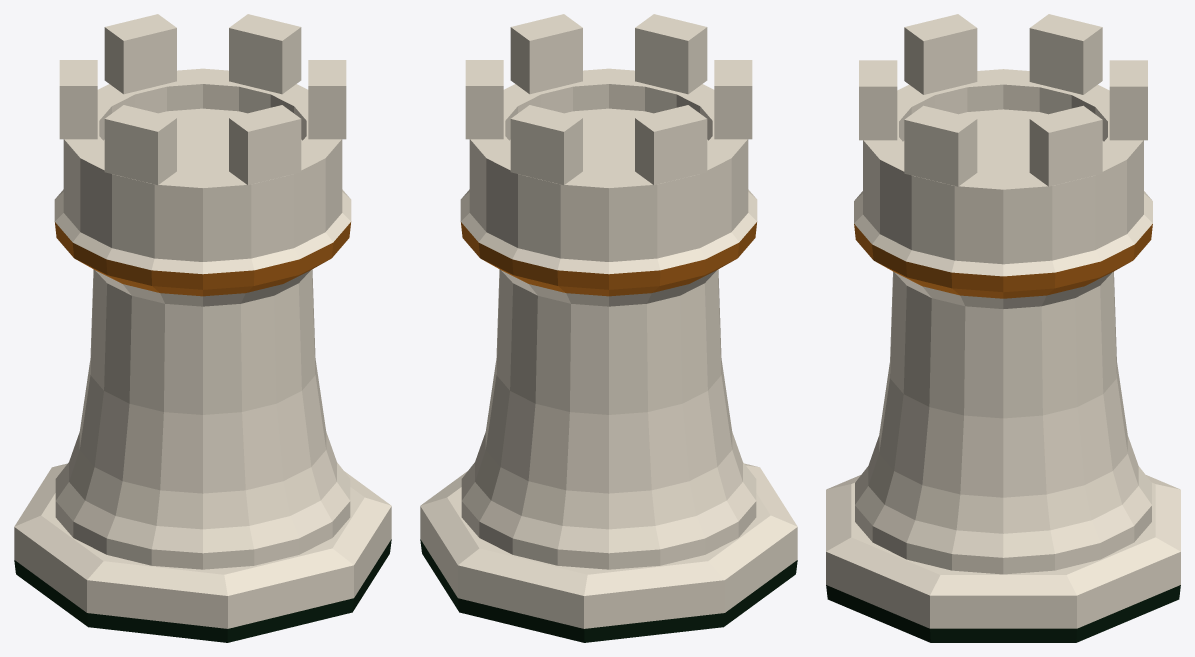
Rendered from cozy_chess_white_rook.obj.
The picture shows the model from 3 angles, left to right: view 1: azimuth 30°, elevation 25°; view 2: azimuth 150°, elevation 25°; view 3: azimuth 270°, elevation 25°; orthographic projection.
Parts seen in each view (by area): view 1: Chess_White_Rook_Mesh; view 2: Chess_White_Rook_Mesh; view 3: Chess_White_Rook_Mesh.
Part boxes in pixels (x1=…): Chess_White_Rook_Mesh: x1=14, y1=14, x2=391, y2=642; Chess_White_Rook_Mesh: x1=420, y1=14, x2=797, y2=642; Chess_White_Rook_Mesh: x1=826, y1=14, x2=1180, y2=642.
Bounding box in the file's own units: 0.0407 × 0.0627 × 0.0407.
